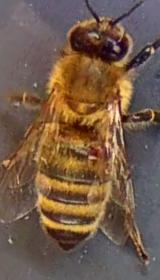varroa_mite: (84, 142, 114, 167)
